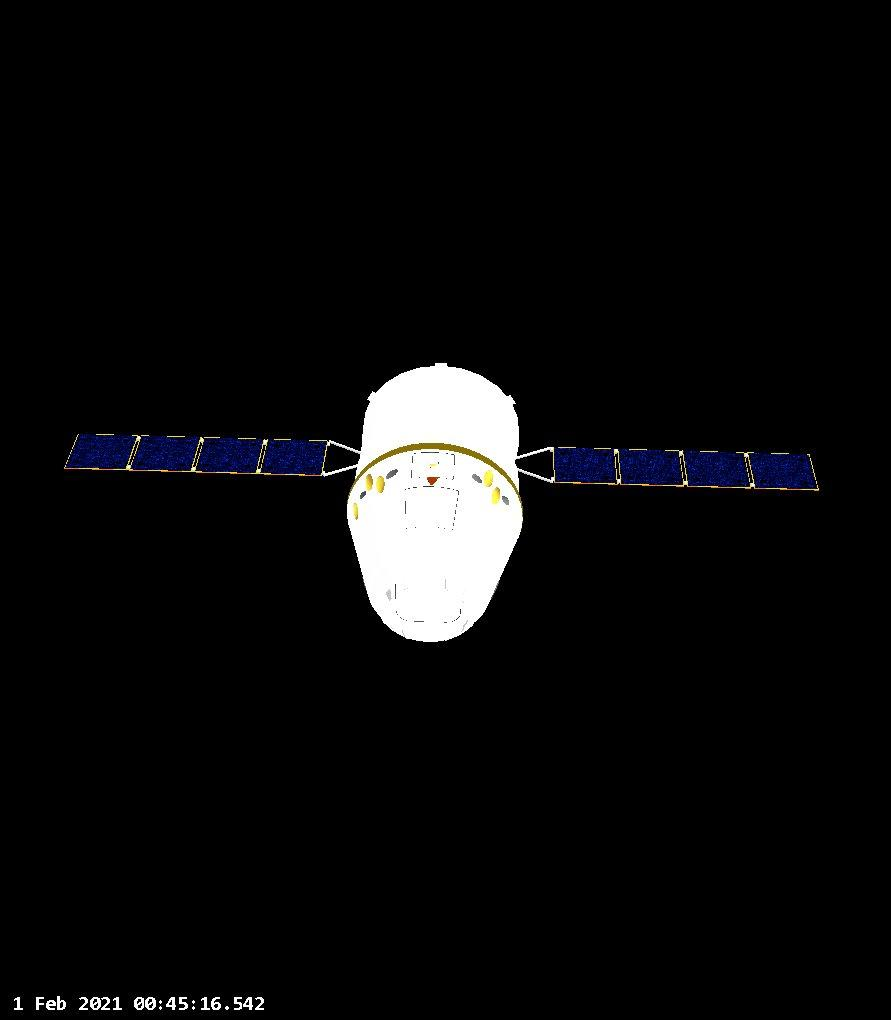body: (348, 364, 528, 645)
solar: (505, 442, 820, 493), (58, 429, 368, 477)
